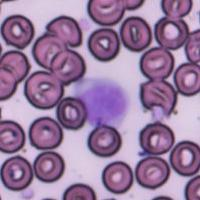L: (76, 76, 130, 128)
